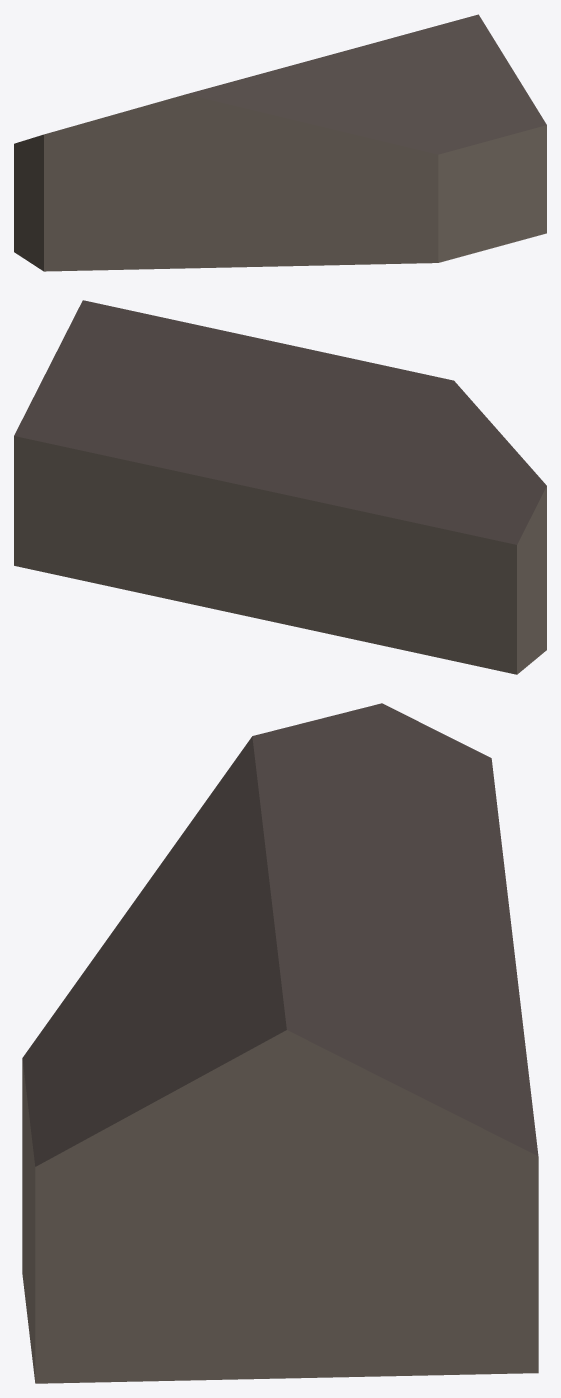
The picture shows the model from 3 angles, top to bottom: view 1: azimuth 30°, elevation 25°; view 2: azimuth 150°, elevation 25°; view 3: azimuth 270°, elevation 25°; orthographic projection. The views are drawn at different scales.
Visible parts, largest first — view 1: HP-w1200711940; view 2: HP-w1200711940; view 3: HP-w1200711940.
Part boxes in pixels (x1=…): HP-w1200711940: x1=14, y1=14, x2=546, y2=271; HP-w1200711940: x1=14, y1=300, x2=546, y2=674; HP-w1200711940: x1=22, y1=703, x2=538, y2=1383.
Size of the model in its own units: 24.28 by 9.65 by 12.95.
